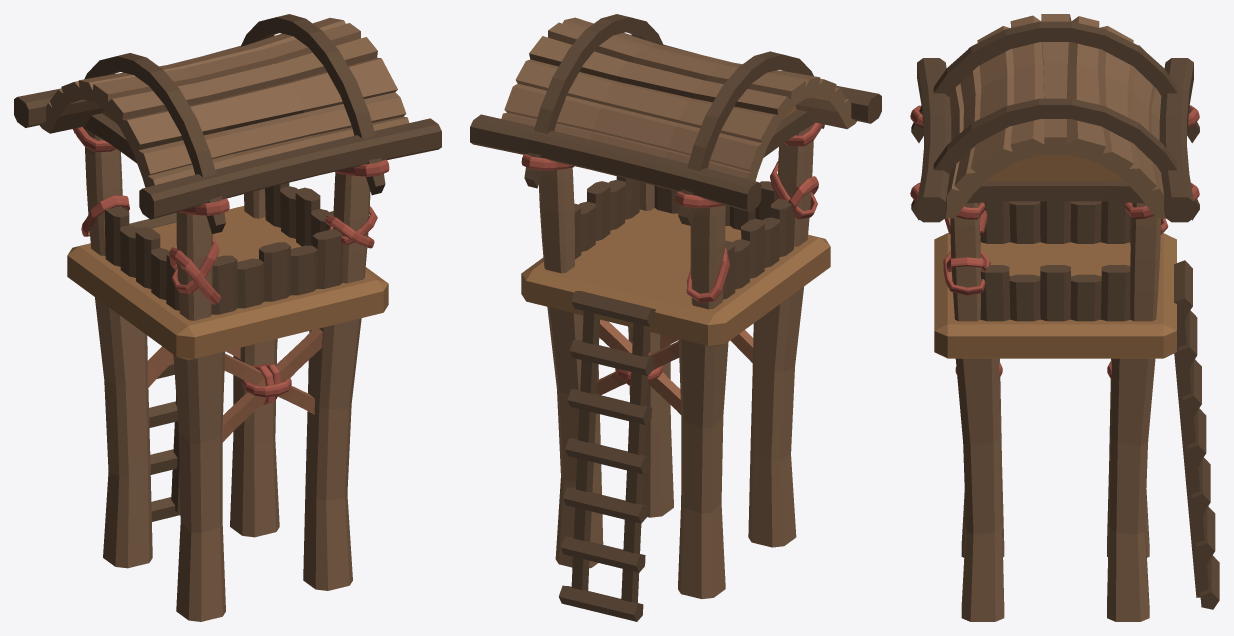
The model's file is 3D_Model_Tower_LP_v1.fbx.
3 renders of one model, left to right at view 1: azimuth 30°, elevation 25°; view 2: azimuth 150°, elevation 25°; view 3: azimuth 270°, elevation 25°, orthographic. The views are drawn at different scales.
Visible parts, largest first — view 1: Tower_01; view 2: Tower_01; view 3: Tower_01.
Boxes of the visible parts, x1,y1,x2,y2 form: Tower_01: (14, 14, 441, 621); Tower_01: (470, 14, 881, 621); Tower_01: (910, 14, 1219, 621).
Bounding box in the file's own units: 351 × 620 × 329.
